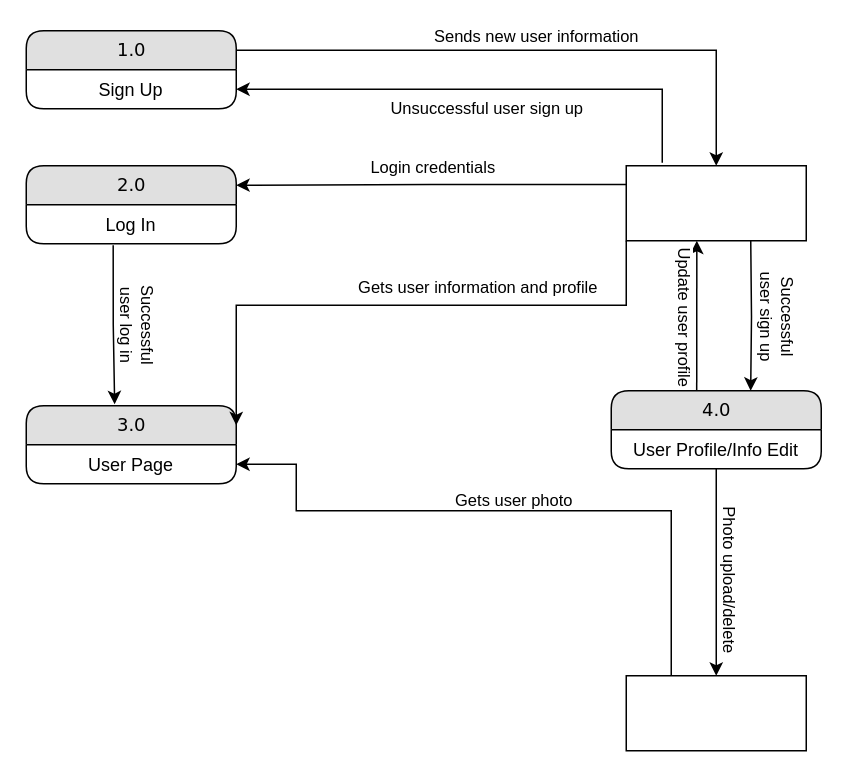
The diagram is 848 pixels wide and 777 high, and some of its shapes have lost their labels. The shapes that lost their labels are listed below. From the top down, each one's centre as x and y in pixels, then its label:
the point at 715,202: Database
the point at 715,712: Photo Storage
